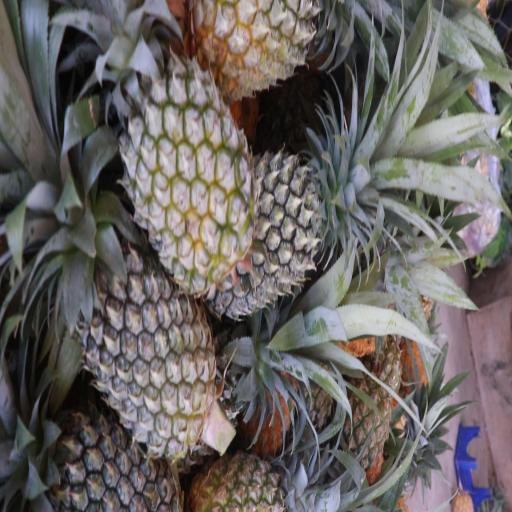------------------------------: (122, 56, 253, 283), (194, 0, 366, 100)
